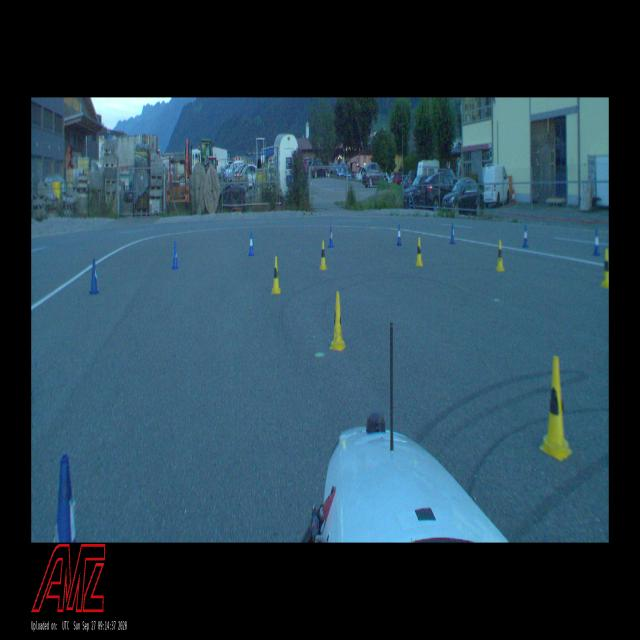blue_cone: (52, 453, 77, 542), (90, 257, 99, 295), (592, 228, 600, 257), (172, 242, 178, 269), (522, 225, 529, 248), (248, 232, 254, 256), (396, 224, 402, 248), (328, 225, 334, 248), (450, 223, 455, 244)
yellow_cone: (540, 356, 572, 460), (330, 292, 346, 351), (271, 256, 281, 294), (496, 239, 504, 272), (602, 249, 608, 288), (319, 239, 326, 270), (416, 237, 422, 266)
